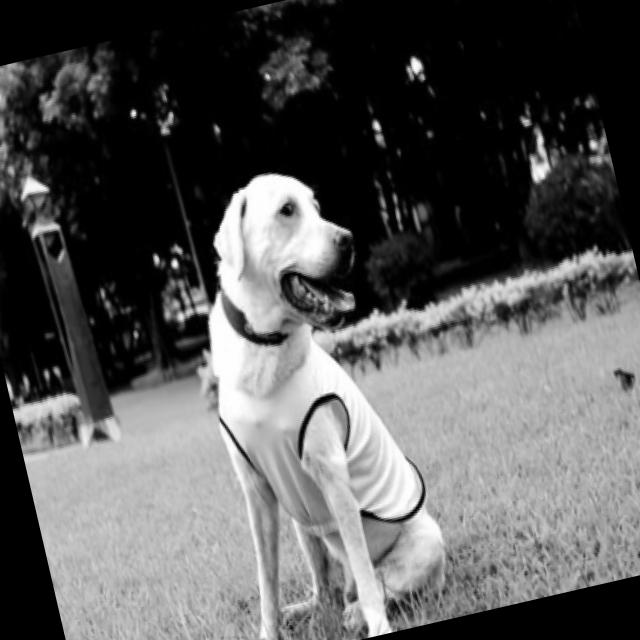dogs: (152, 150, 461, 640)
